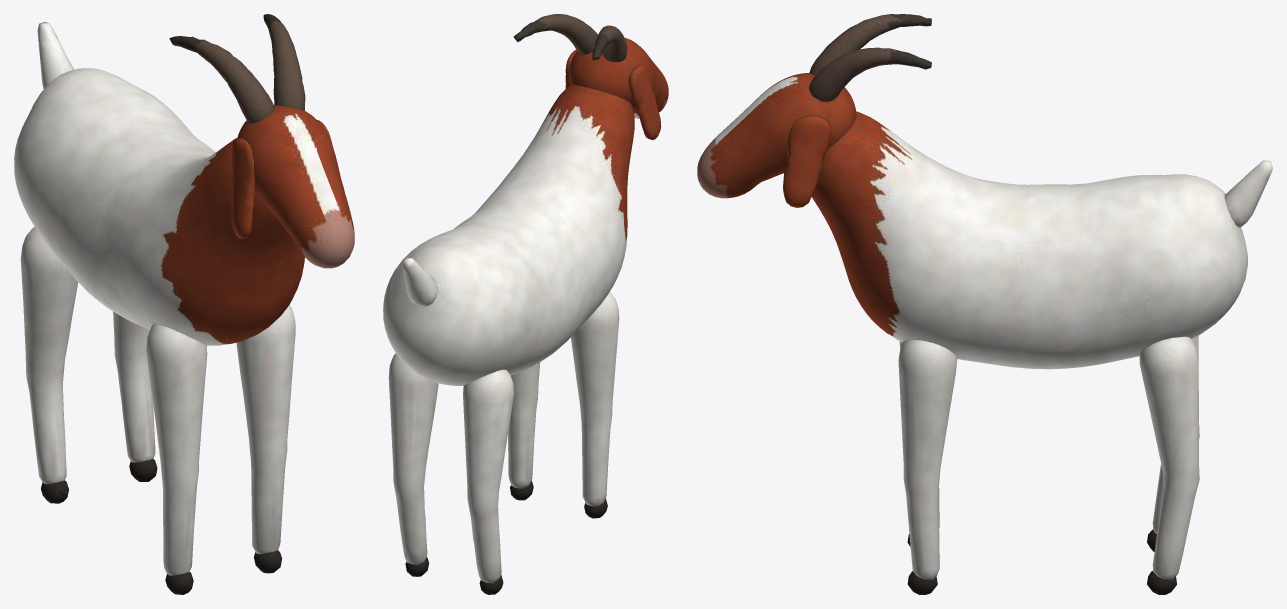
Rendered from animal_boer_goat.glb.
3 views of the same model, side by side, from view 1: azimuth 30°, elevation 25°; view 2: azimuth 150°, elevation 25°; view 3: azimuth 270°, elevation 25° (orthographic). The views are drawn at different scales.
Parts seen in each view (by area): view 1: animal_boer_goat, head, leg0, leg2, leg1, leg3, tail; view 2: animal_boer_goat, leg2, head, leg3, leg0, leg1, tail; view 3: animal_boer_goat, head, leg3, leg1, tail.
Part boxes in pixels (left/top/right/bottom): animal_boer_goat: left=14, top=68, right=304, bottom=345; head: left=169, top=14, right=354, bottom=268; leg0: left=146, top=324, right=207, bottom=594; leg2: left=20, top=227, right=78, bottom=503; leg1: left=236, top=305, right=295, bottom=573; leg3: left=113, top=311, right=157, bottom=481; tail: left=37, top=21, right=74, bottom=88; animal_boer_goat: left=383, top=84, right=634, bottom=385; leg2: left=463, top=369, right=513, bottom=594; head: left=513, top=14, right=668, bottom=139; leg3: left=388, top=353, right=438, bottom=576; leg0: left=570, top=292, right=619, bottom=518; leg1: left=508, top=362, right=540, bottom=500; tail: left=402, top=257, right=437, bottom=307; animal_boer_goat: left=811, top=111, right=1247, bottom=369; head: left=697, top=14, right=931, bottom=207; leg3: left=1139, top=336, right=1199, bottom=594; leg1: left=898, top=339, right=957, bottom=594; tail: left=1224, top=160, right=1272, bottom=227.
Size of the model in its own units: 0.1498 by 0.5116 by 0.4929.
1 material, 1 textured.
